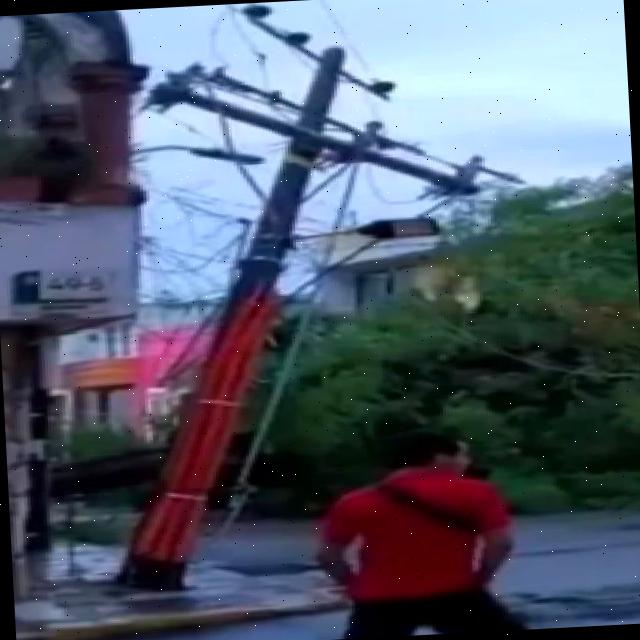Broken Pole: (88, 0, 508, 594)
